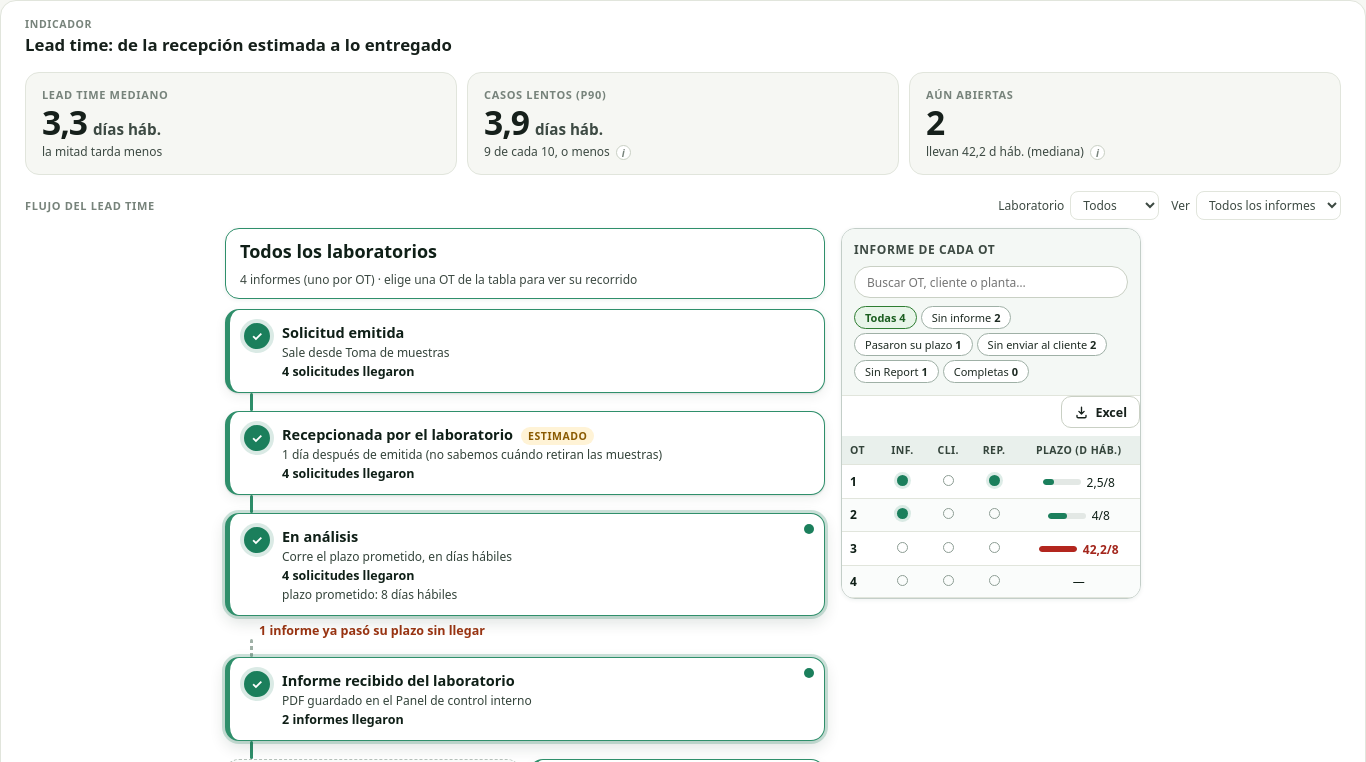
it: IndicadoresEntrega › el flujo se puede filtrar por laboratorio
The image size is (1366, 762).
Select "ALS" in the dropdown named "Laboratorio del flujo" at (1115, 206), box [1070, 191, 1159, 220]
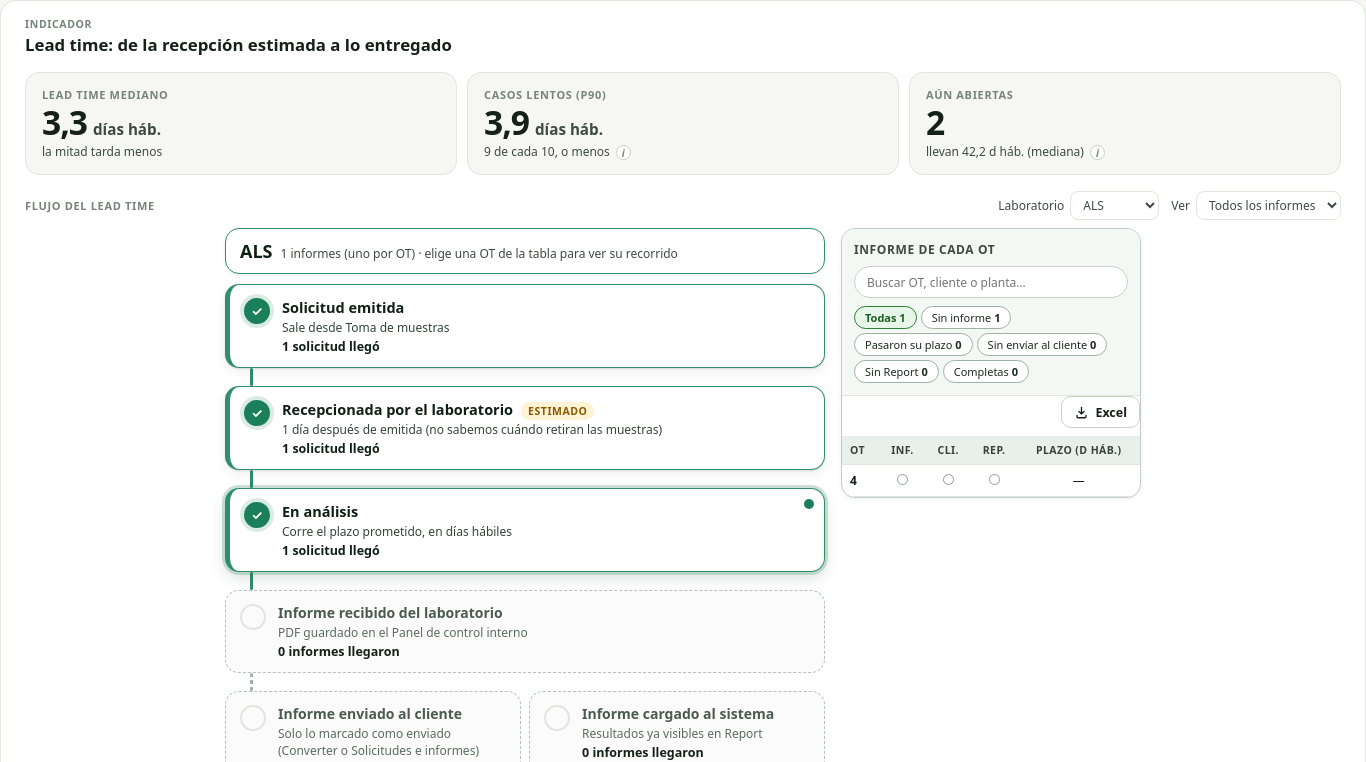
Result: the text "1 solicitud llegó" below "Sale desde Toma de muestras" is shown at [282, 338, 380, 355]
